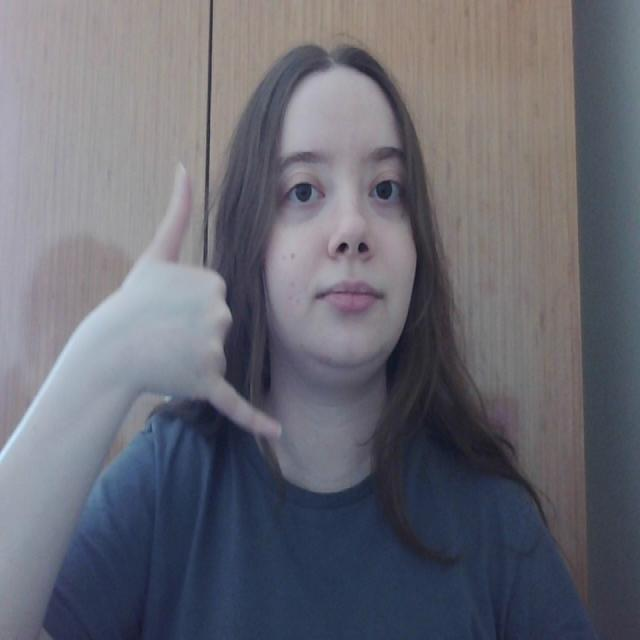Telefon: (142, 161, 286, 452)
